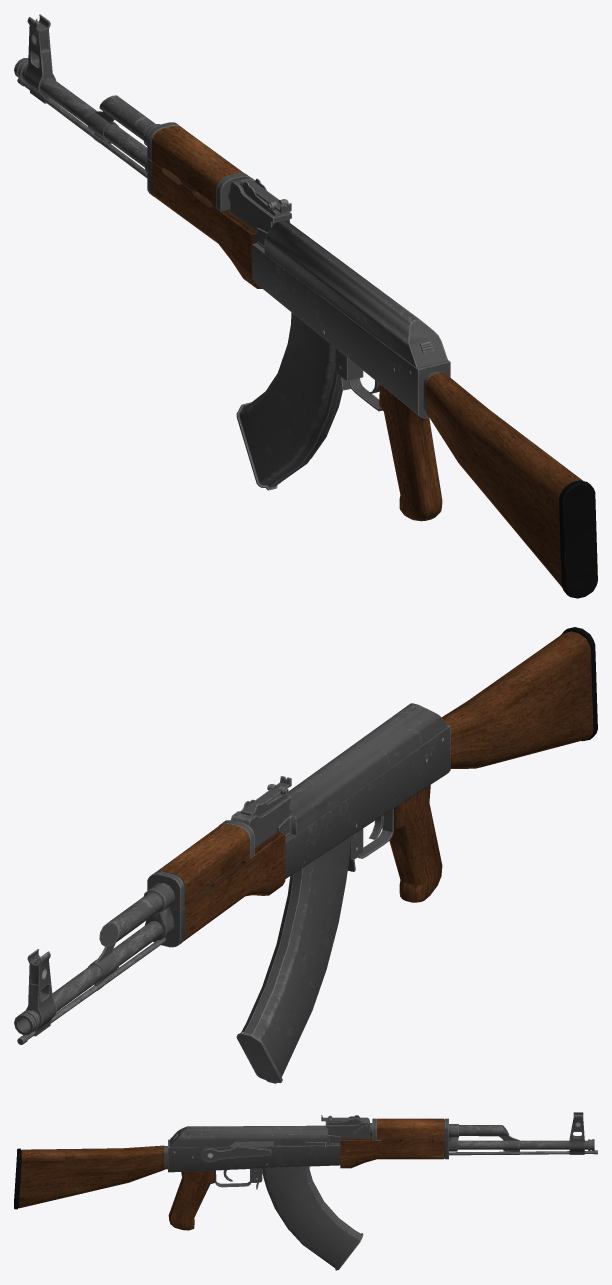
3 views of the same model, one above another, from view 1: azimuth 30°, elevation 25°; view 2: azimuth 150°, elevation 25°; view 3: azimuth 270°, elevation 25° (orthographic). The views are drawn at different scales.
Visible parts, largest first — view 1: AK_47; view 2: AK_47; view 3: AK_47.
Boxes of the visible parts, <box> form: AK_47: <box>14,14,597,598</box>; AK_47: <box>14,627,597,1083</box>; AK_47: <box>14,1112,597,1270</box>.
Bounding box in the file's own units: 0.0399 × 0.2582 × 0.8765.
1 material, 1 textured.
